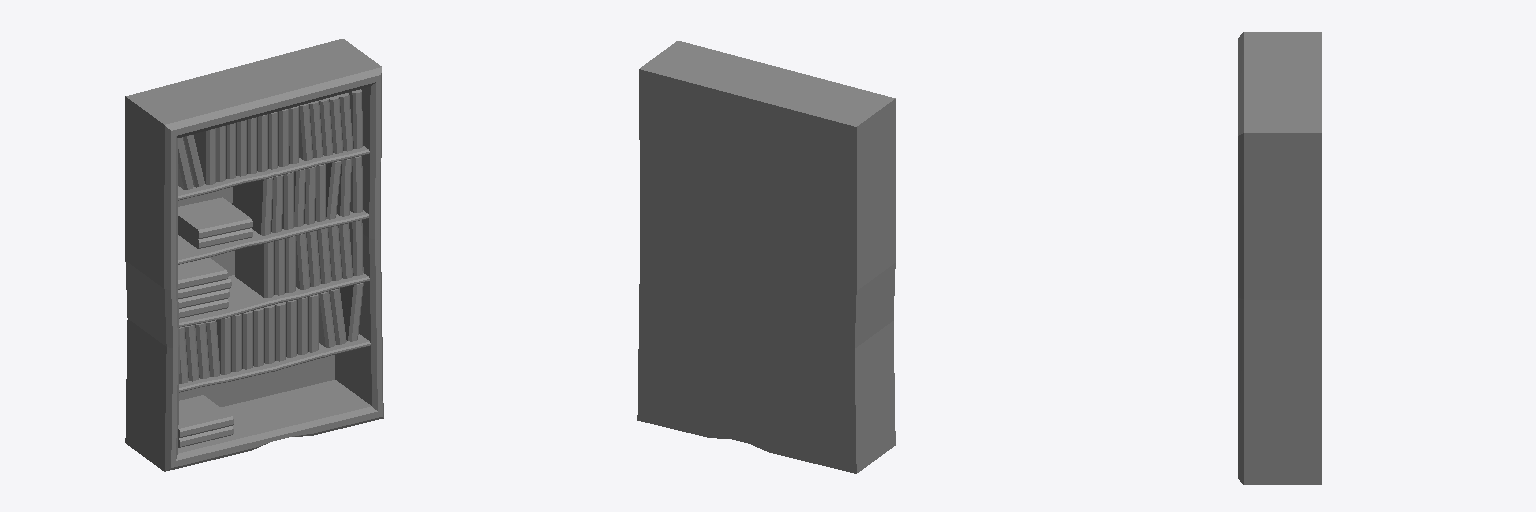
File: Estante_lounge.obj
The picture shows the model from 3 angles: view 1: azimuth 30°, elevation 25°; view 2: azimuth 150°, elevation 25°; view 3: azimuth 270°, elevation 25°; orthographic projection.
Visible parts, largest first — view 1: SHELF, Object007; view 2: SHELF; view 3: SHELF.
Part boxes in pixels (x1,y1,x2,y2): SHELF: (125, 39, 383, 471); Object007: (178, 89, 363, 447); SHELF: (637, 41, 895, 473); SHELF: (1238, 32, 1321, 484).
Size of the model in its own units: 26.49 by 40.63 by 8.77.